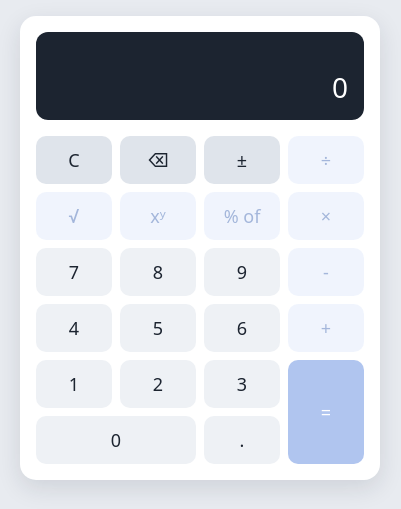
Calculator keypad › chooses an operator with the Percent of button
Click the button "1" at (74, 384), box [36,360,112,408]
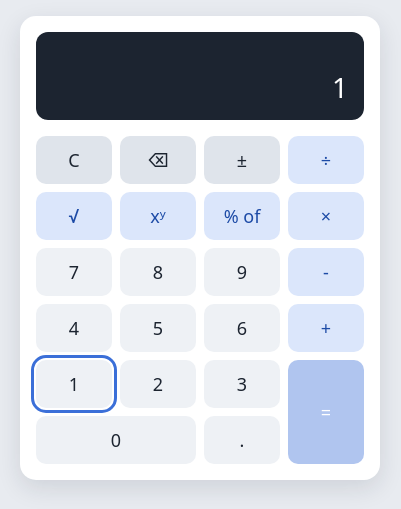
Click the button "2" at (158, 384), box [120,360,196,408]
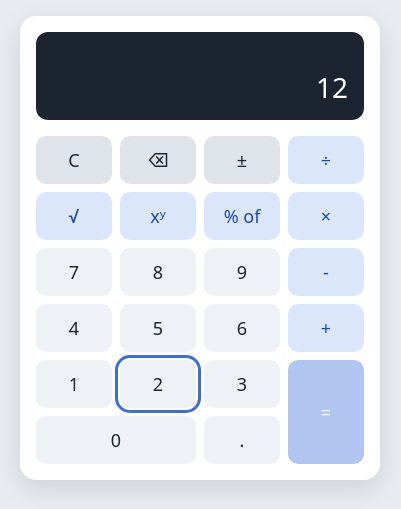
Click the button with aria-label "Percent of" at (242, 216), box [204,192,280,240]
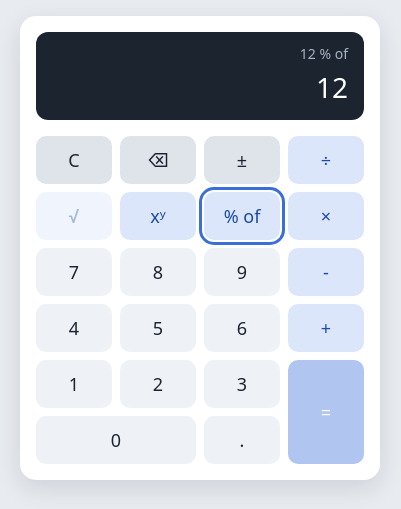
Check: the text "12 % of" is shown, box [300,44,348,63]
